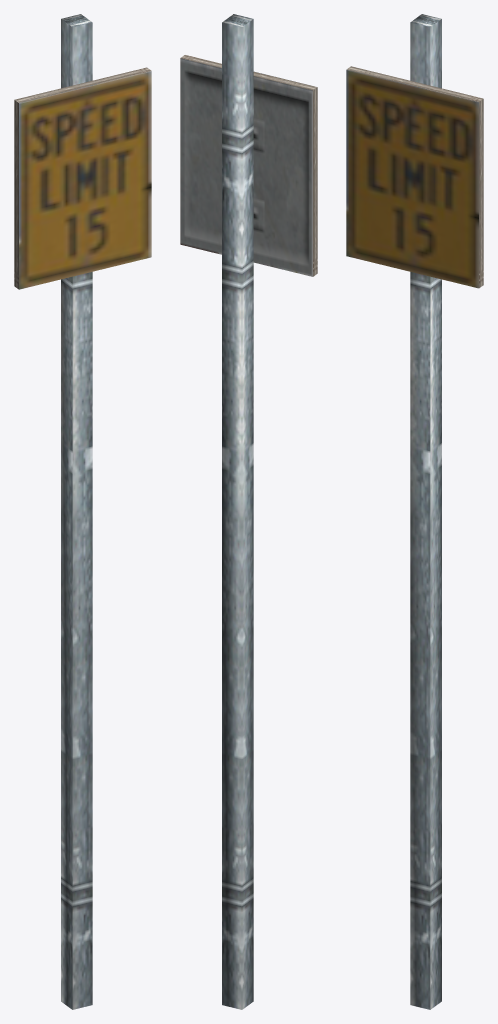
File: Model_StreetSign_16.fbx
The picture shows the model from 3 angles, left to right: view 1: azimuth 30°, elevation 25°; view 2: azimuth 150°, elevation 25°; view 3: azimuth 330°, elevation 25°; orthographic projection.
Parts seen in each view (by area): view 1: StreetSign_16; view 2: StreetSign_16; view 3: StreetSign_16.
Boxes of the visible parts, bbox=[...] form: StreetSign_16: bbox=[14, 14, 151, 1009]; StreetSign_16: bbox=[180, 14, 317, 1009]; StreetSign_16: bbox=[346, 14, 483, 1009].
Size of the model in its own units: 24.03 by 170 by 5.26.
